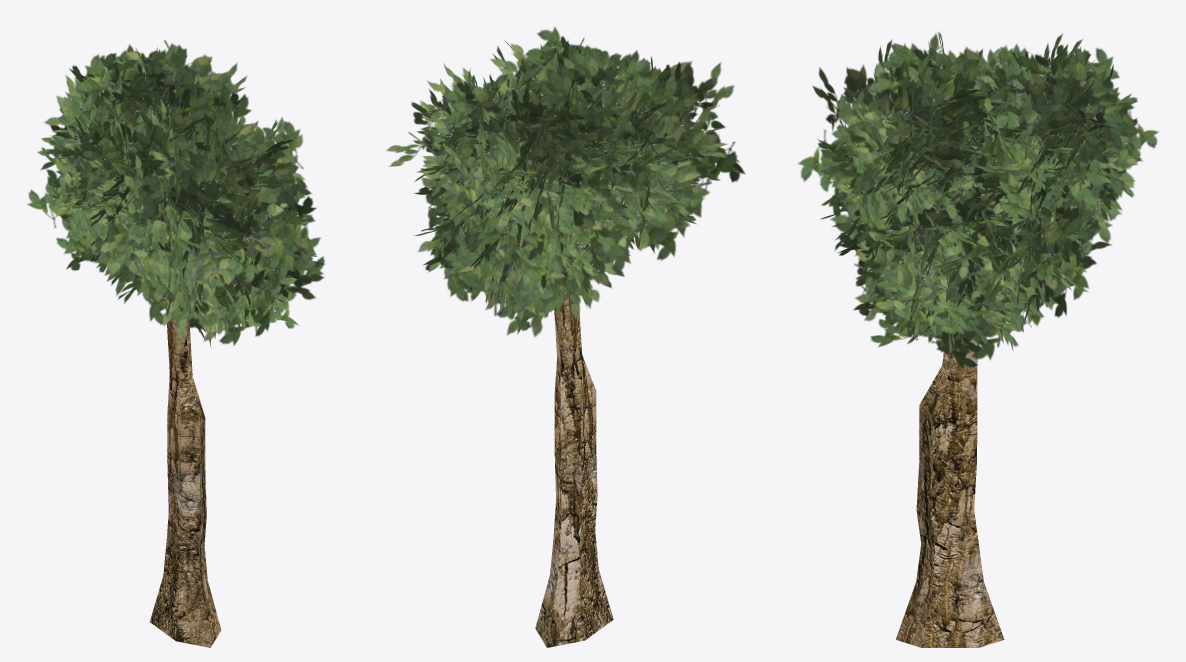
The model's file is tree.glb.
The picture shows the model from 3 angles, left to right: view 1: azimuth 30°, elevation 25°; view 2: azimuth 150°, elevation 25°; view 3: azimuth 270°, elevation 25°; orthographic projection. The views are drawn at different scales.
Visible parts, largest first — view 1: 立方体, leaf.195, leaf.199, leaf.198, leaf.196, leaf.285, leaf.297, leaf.094, leaf.083, leaf.197, leaf.259, leaf.250 (+49 smaller); view 2: 立方体, leaf.072, leaf.084, leaf.070, leaf.252, leaf.087, leaf.199, leaf.261, leaf.256, leaf.198, leaf.219, leaf.204 (+55 smaller); view 3: 立方体, leaf.258, leaf.202, leaf.249, leaf.250, leaf.286, leaf.289, leaf.195, leaf.285, leaf.253, leaf.052, leaf.297 (+61 smaller).
Part boxes in pixels (box(x1,y1,x2,y2)): 立方体: box(123, 116, 221, 647); leaf.195: box(117, 151, 252, 283); leaf.199: box(124, 149, 209, 301); leaf.198: box(93, 153, 238, 298); leaf.196: box(99, 141, 247, 295); leaf.285: box(230, 125, 311, 285); leaf.297: box(233, 121, 309, 271); leaf.094: box(46, 124, 177, 221); leaf.083: box(55, 129, 114, 241); leaf.197: box(106, 196, 260, 294); leaf.259: box(166, 118, 262, 170); leaf.250: box(119, 44, 251, 124); 立方体: box(486, 146, 628, 647); leaf.072: box(615, 77, 718, 260); leaf.084: box(603, 80, 711, 241); leaf.070: box(602, 57, 709, 250); leaf.252: box(408, 77, 503, 216); leaf.087: box(601, 143, 727, 212); leaf.199: box(642, 63, 745, 182); leaf.261: box(600, 107, 675, 260); leaf.256: box(411, 96, 546, 151); leaf.198: box(615, 50, 737, 189); leaf.219: box(436, 66, 545, 215); leaf.204: box(434, 63, 498, 217); 立方体: box(896, 139, 1033, 647); leaf.258: box(996, 61, 1140, 245); leaf.202: box(992, 68, 1121, 230); leaf.249: box(994, 110, 1158, 222); leaf.250: box(980, 76, 1119, 183); leaf.286: box(862, 85, 993, 219); leaf.289: box(819, 87, 980, 195); leaf.195: box(820, 43, 909, 213); leaf.285: box(850, 107, 941, 244); leaf.253: box(973, 138, 1141, 183); leaf.052: box(854, 179, 976, 344); leaf.297: box(834, 119, 961, 251).
Bounding box in the file's own units: 10.42 × 20.5 × 11.86.
Materials: 2 (2 with a texture image).
